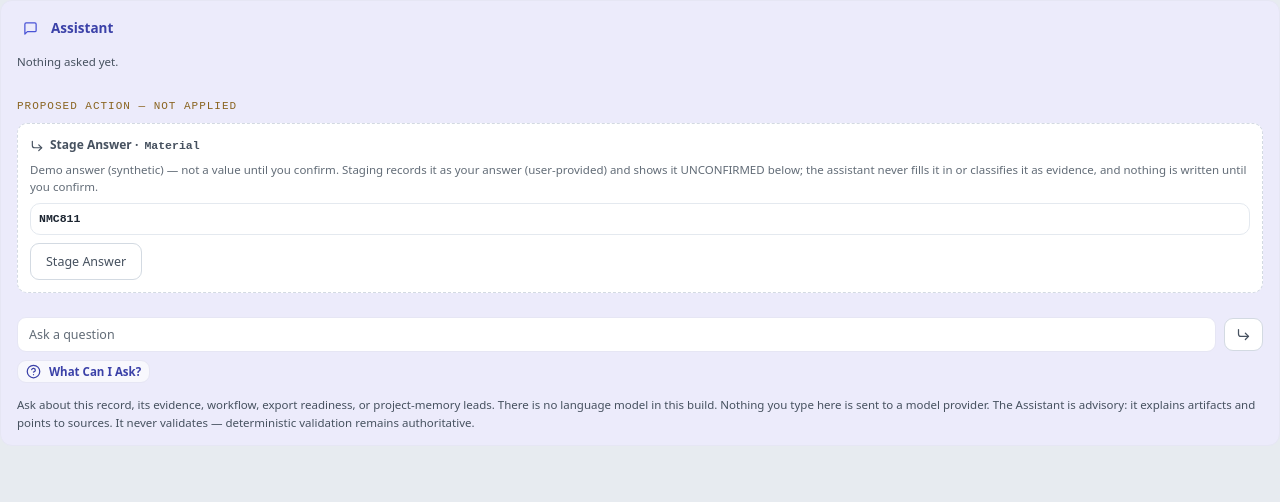
Scenario: P29.6 staging a value creates an UNCONFIRMED proposal (no mutation) › a staged USER value is labeled user-provided and NEVER auto-classified as evidence-supported
Click the button "Stage Answer". click: (86, 262)
box: 30,243 -> 142,280
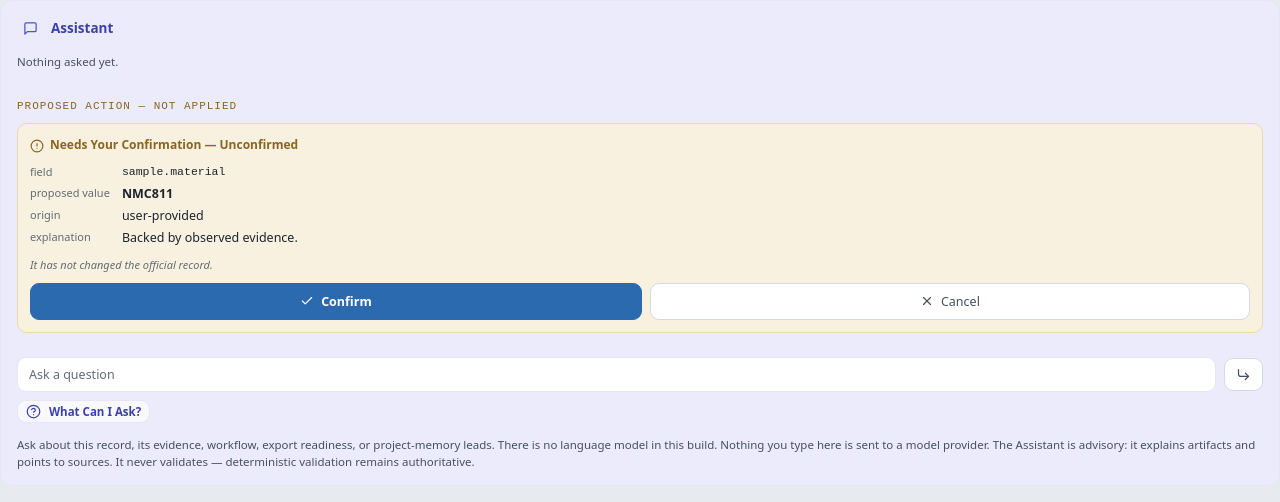
Expected: the element with class "agent-proposal" shows "user", 122,207 -> 204,224
